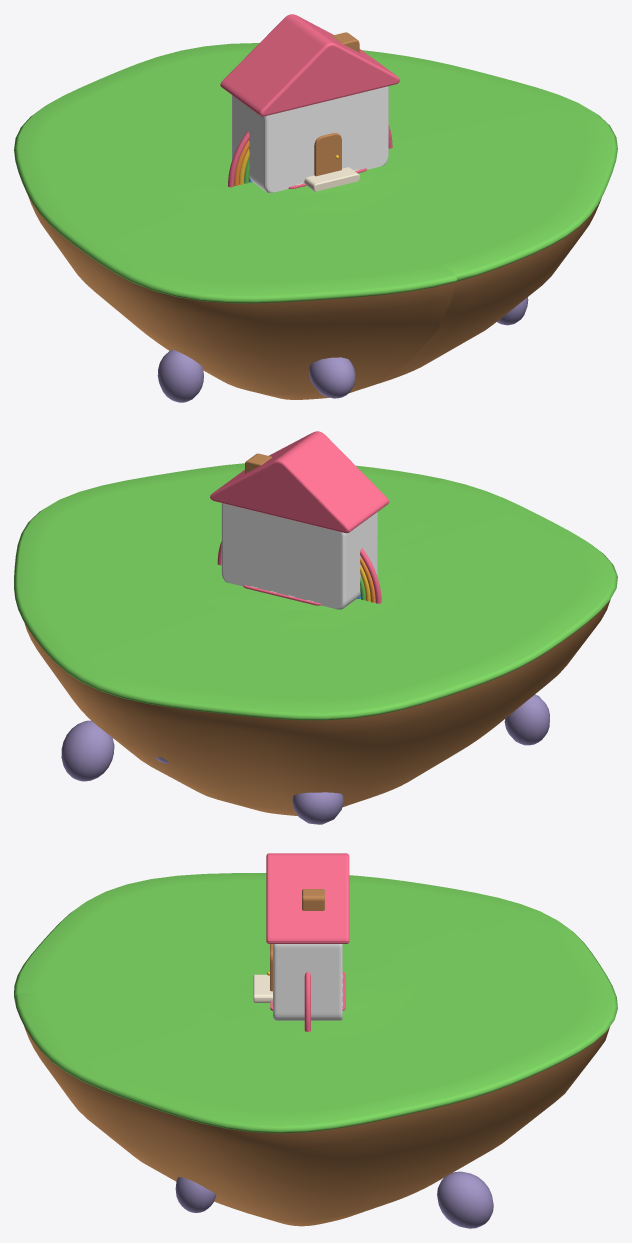
File: wonder-props.glb
3 views of the same model, one above another, from view 1: azimuth 30°, elevation 25°; view 2: azimuth 150°, elevation 25°; view 3: azimuth 270°, elevation 25° (orthographic).
Visible parts, largest first — view 1: island_main, house_walls, house_roof, island_reward, house_trim, rainbow, island_small; view 2: island_main, house_walls, house_roof, island_reward, island_small, rainbow; view 3: island_main, island_reward, house_roof, house_walls, island_small, house_trim.
Boxes of the visible parts, box(x1,y1,x2,y2) form: island_main: box(14, 43, 617, 402); house_walls: box(232, 86, 388, 192); house_roof: box(220, 14, 399, 116); island_reward: box(201, 134, 417, 214); house_trim: box(304, 32, 359, 191); rainbow: box(228, 125, 392, 187); island_small: box(280, 168, 375, 194); island_main: box(14, 463, 617, 824); house_walls: box(221, 503, 377, 609); house_roof: box(210, 431, 389, 533); island_reward: box(188, 548, 404, 630); island_small: box(232, 584, 355, 610); rainbow: box(217, 541, 381, 603); island_main: box(14, 873, 617, 1228); island_reward: box(195, 949, 415, 1038); house_roof: box(266, 853, 349, 943); house_walls: box(273, 944, 342, 1020); island_small: box(239, 966, 374, 1015); house_trim: box(253, 889, 324, 1002).
Bounding box in the file's own units: 21.22 × 13.82 × 21.13.
